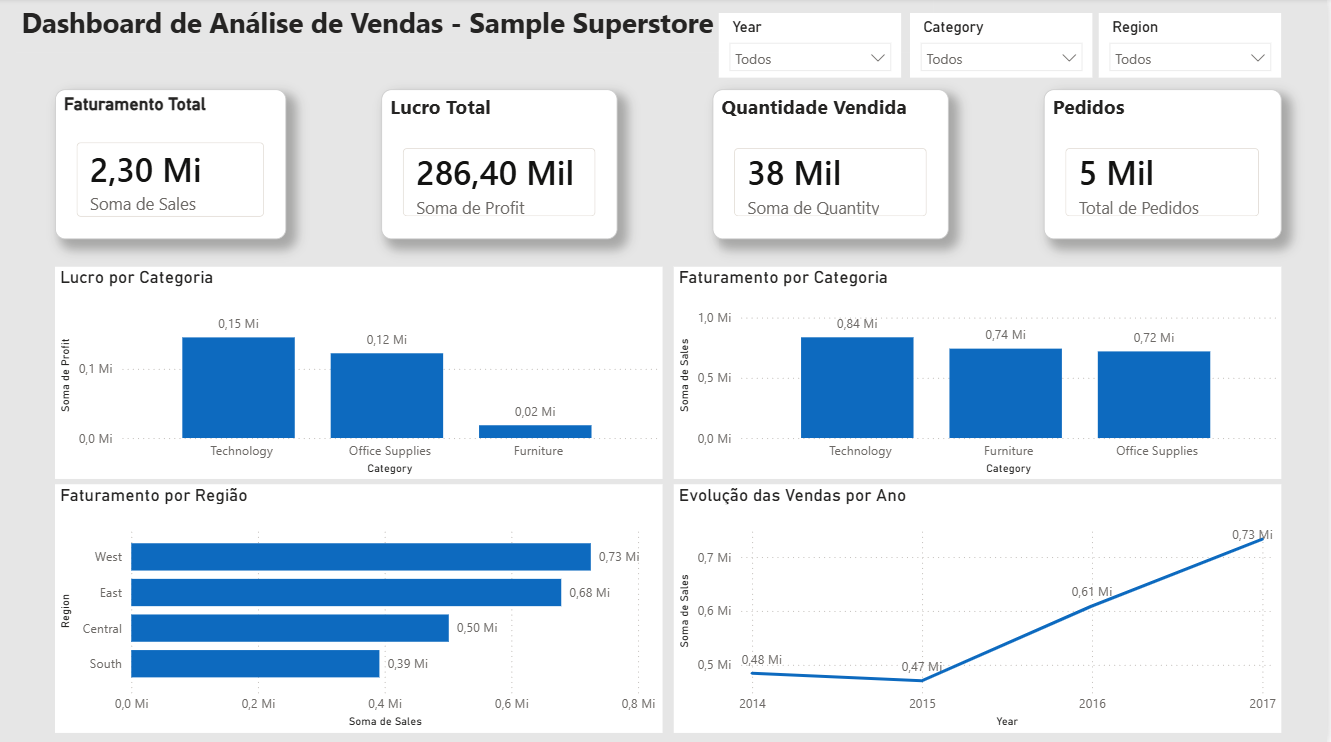

This screenshot's page, from the dashboard's own definition file:
{"tool":"powerbi","page":{"name":"Página 1","canvas":[1280,720],"ordinal":0},"visuals":[{"type":"cardVisual","title":"Faturamento Total","fields":{"Data":["Sum(Sample - Superstore.Sales)"]},"box":[53.1,88.1,223.2,144.8],"z":0},{"type":"cardVisual","title":"Quantidade Vendida","fields":{"Data":["Sum(Sample - Superstore.Quantity)"]},"box":[682,88.1,228,144.8],"z":1000},{"type":"cardVisual","title":"Lucro Total","fields":{"Data":["Sum(Sample - Superstore.Profit)"]},"box":[365.1,88.1,228,144.8],"z":2000},{"type":"cardVisual","title":"Pedidos","fields":{"Data":["Sample - Superstore.Total de Pedidos"]},"box":[998.9,88.1,229.2,144.8],"z":3000},{"type":"textbox","box":[15.7,0,885.5,53.1],"z":4000},{"type":"columnChart","title":"Faturamento por Categoria","fields":{"Y":["Sum(Sample - Superstore.Sales)"],"Category":["Sample - Superstore.Category"]},"box":[650.3,259.4,586.3,205.1],"z":5000},{"type":"columnChart","title":"Lucro por Categoria","fields":{"Y":["Sum(Sample - Superstore.Profit)"],"Category":["Sample - Superstore.Category"]},"box":[53.1,259.4,586.3,205.1],"z":6000},{"type":"barChart","title":"Faturamento por Região","fields":{"Y":["Sum(Sample - Superstore.Sales)"],"Category":["Sample - Superstore.Region"]},"box":[53.1,469.3,586.3,240.1],"z":7000},{"type":"lineChart","title":"Evolução das Vendas por Ano","fields":{"Category":["Sample - Superstore.Order Date.Variation.Date Hierarchy.Year","Sample - Superstore.Order Date.Variation.Date Hierarchy.Quarter","Sample - Superstore.Order Date.Variation.Date Hierarchy.Month","Sample - Superstore.Order Date.Variation.Date Hierarchy.Day"],"Y":["Sum(Sample - Superstore.Sales)"]},"box":[650.3,469.3,586.3,240.1],"z":8000},{"type":"slicer","fields":{"Values":["Sample - Superstore.Order Date.Variation.Date Hierarchy.Year"]},"box":[693.7,14.5,176.1,62.7],"z":9000},{"type":"slicer","fields":{"Values":["Sample - Superstore.Region"]},"box":[1060.5,14.5,176.1,62.7],"z":10000},{"type":"slicer","fields":{"Values":["Sample - Superstore.Category"]},"box":[878.3,14.5,176.1,62.7],"z":11000}]}

Visuals, with their boxes in screenshot pixels (x1, y1, x2, y2), scaled from the page's 1280x720 canvas onto the 1331x742 screenshot:
"Faturamento Total" cardVisual: 55/91/287/240
"Quantidade Vendida" cardVisual: 709/91/946/240
"Lucro Total" cardVisual: 380/91/617/240
"Pedidos" cardVisual: 1039/91/1277/240
textbox: 16/0/937/55
"Faturamento por Categoria" columnChart: 676/267/1286/479
"Lucro por Categoria" columnChart: 55/267/665/479
"Faturamento por Região" barChart: 55/484/665/731
"Evolução das Vendas por Ano" lineChart: 676/484/1286/731
slicer - Sample - Superstore.Order Date.Variation.Date Hierarchy.Year: 721/15/904/80
slicer - Sample - Superstore.Region: 1103/15/1286/80
slicer - Sample - Superstore.Category: 913/15/1096/80
